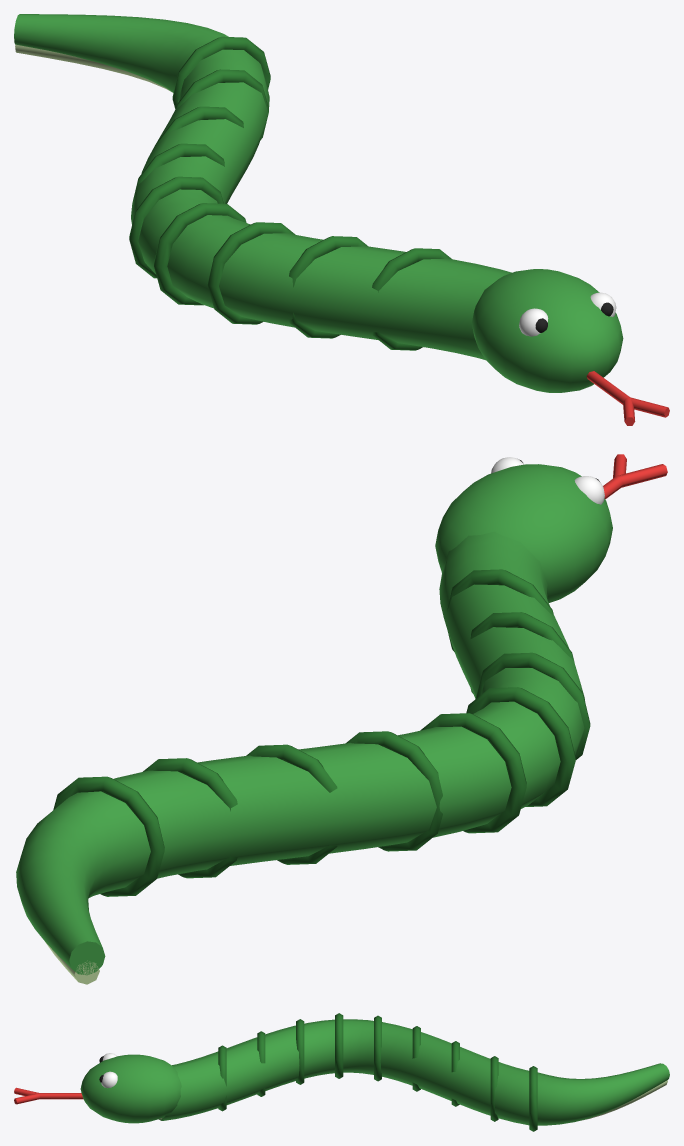
Rendered from snake.glb.
3 renders of one model, top to bottom at view 1: azimuth 30°, elevation 25°; view 2: azimuth 150°, elevation 25°; view 3: azimuth 270°, elevation 25°, orthographic. The views are drawn at different scales.
Parts seen in each view (by area): view 1: snake; view 2: snake; view 3: snake.
Part boxes in pixels (box(x1,y1,x2,y2)): snake: box(14, 14, 669, 425); snake: box(16, 454, 667, 984); snake: box(14, 1013, 669, 1131).
Size of the model in its own units: 1.21 by 0.458 by 4.15.
